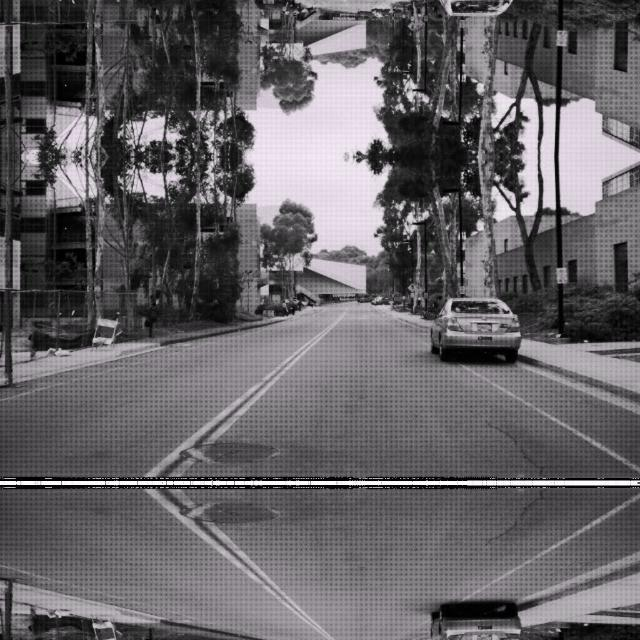pedestrianCrossing: (407, 281, 417, 291), (407, 21, 417, 31)
